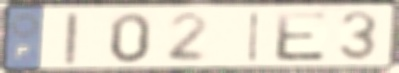0: (108, 10, 155, 66)
2: (165, 11, 211, 65)
3: (337, 9, 380, 63)
E: (274, 10, 330, 63)
I: (62, 11, 81, 66), (246, 9, 262, 64)
